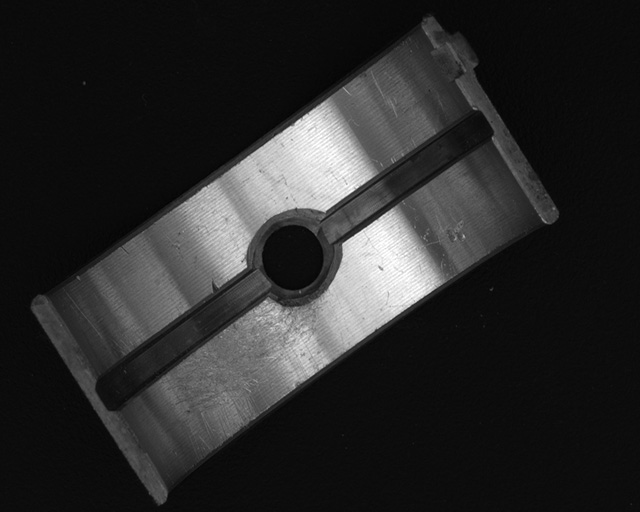bruise: (444, 219, 468, 244), (210, 278, 221, 294)
gap: (96, 270, 271, 409), (325, 112, 490, 242)
hole: (249, 209, 341, 302)
scratch: (168, 286, 331, 448)
